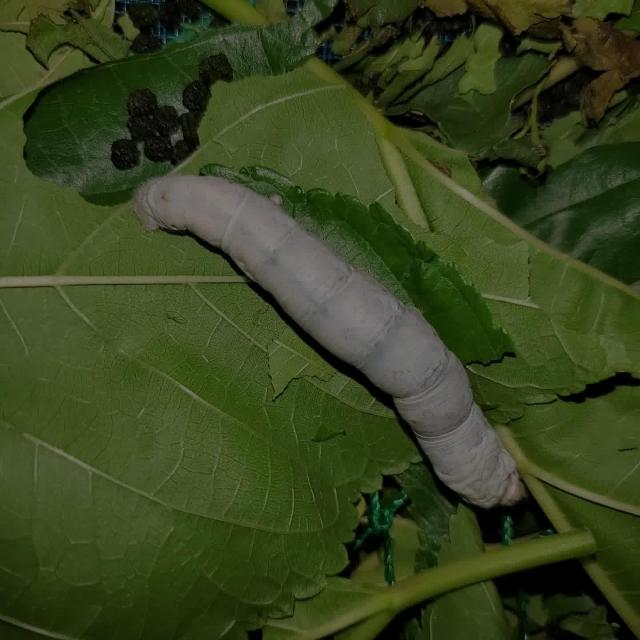Healthy: (132, 164, 534, 516)
